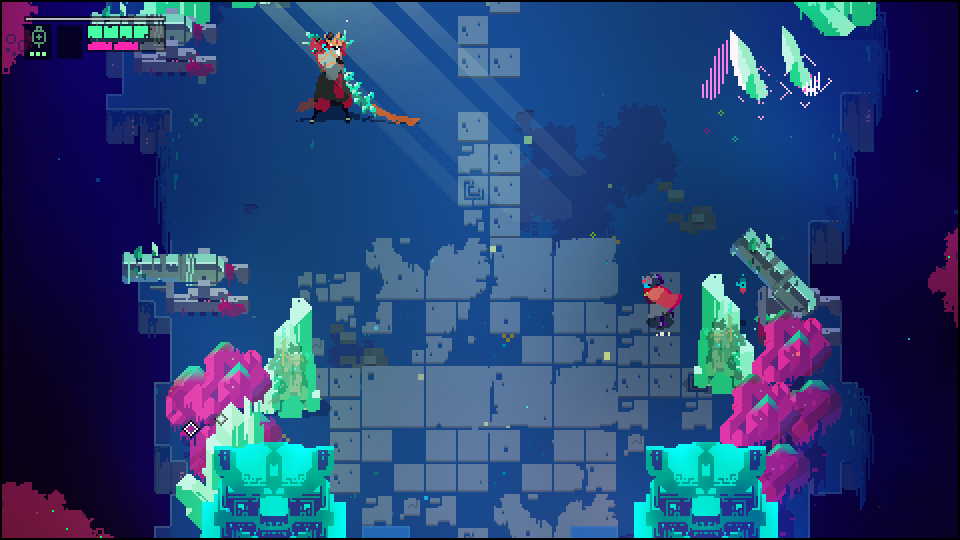hanged_crys: (724, 29, 765, 95), (778, 28, 814, 90)
hanged_man: (301, 32, 379, 121)
player: (638, 274, 680, 328)
